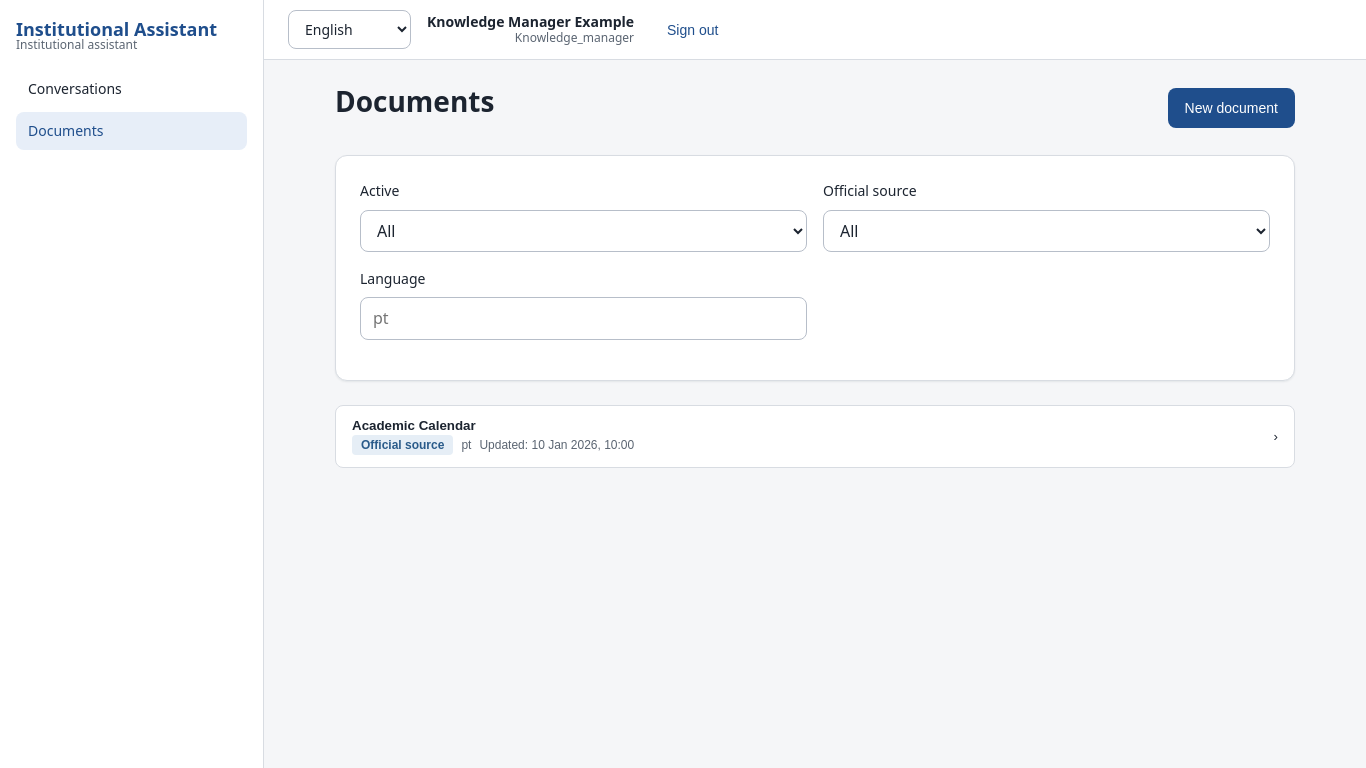
Test: documents admin area › creates a document with Save and opens its detail
Click the button "New document": (1231, 108) x1=1168 y1=88 x2=1295 y2=128
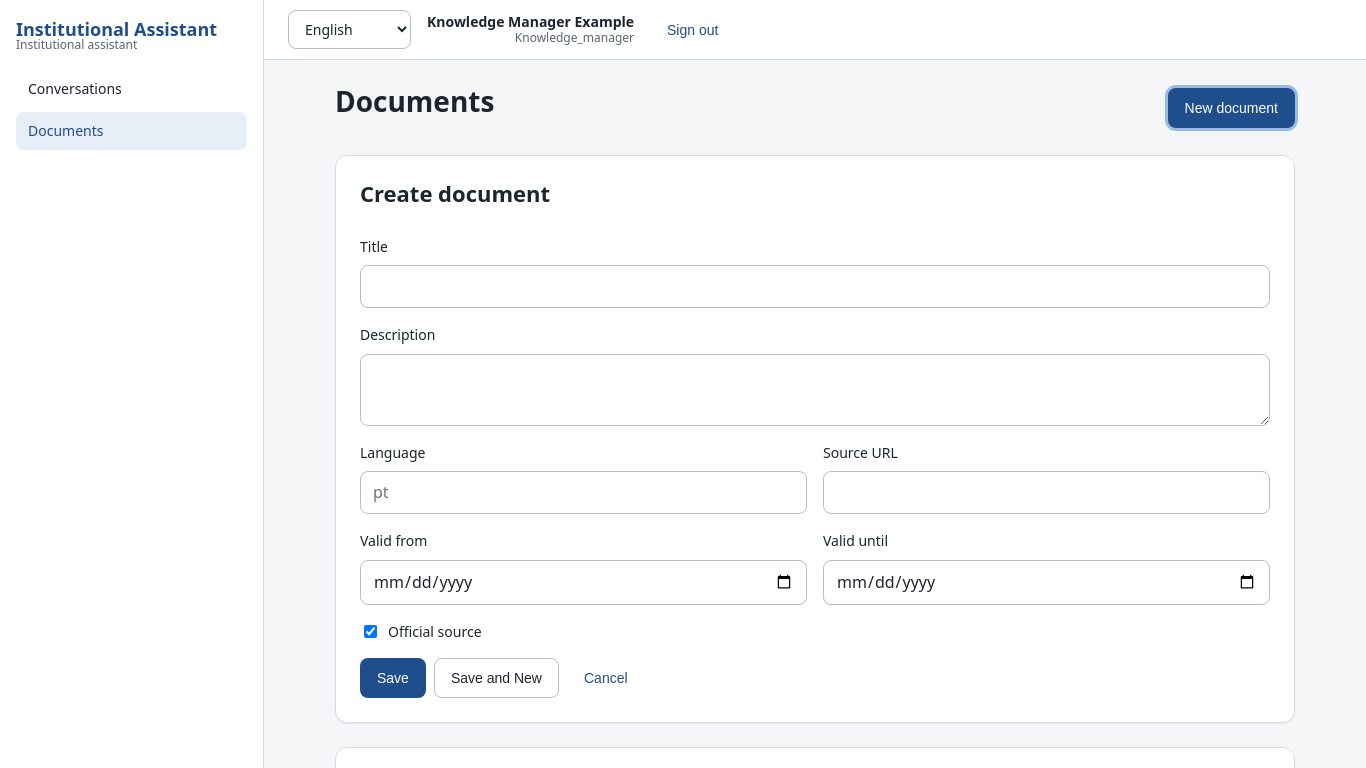
Check: the checkbox labelled "Official source" is checked, box x1=364 y1=625 x2=377 y2=638
In the field labelled "Title": (815, 287) x1=360 y1=265 x2=1270 y2=308, type "New Regulation"
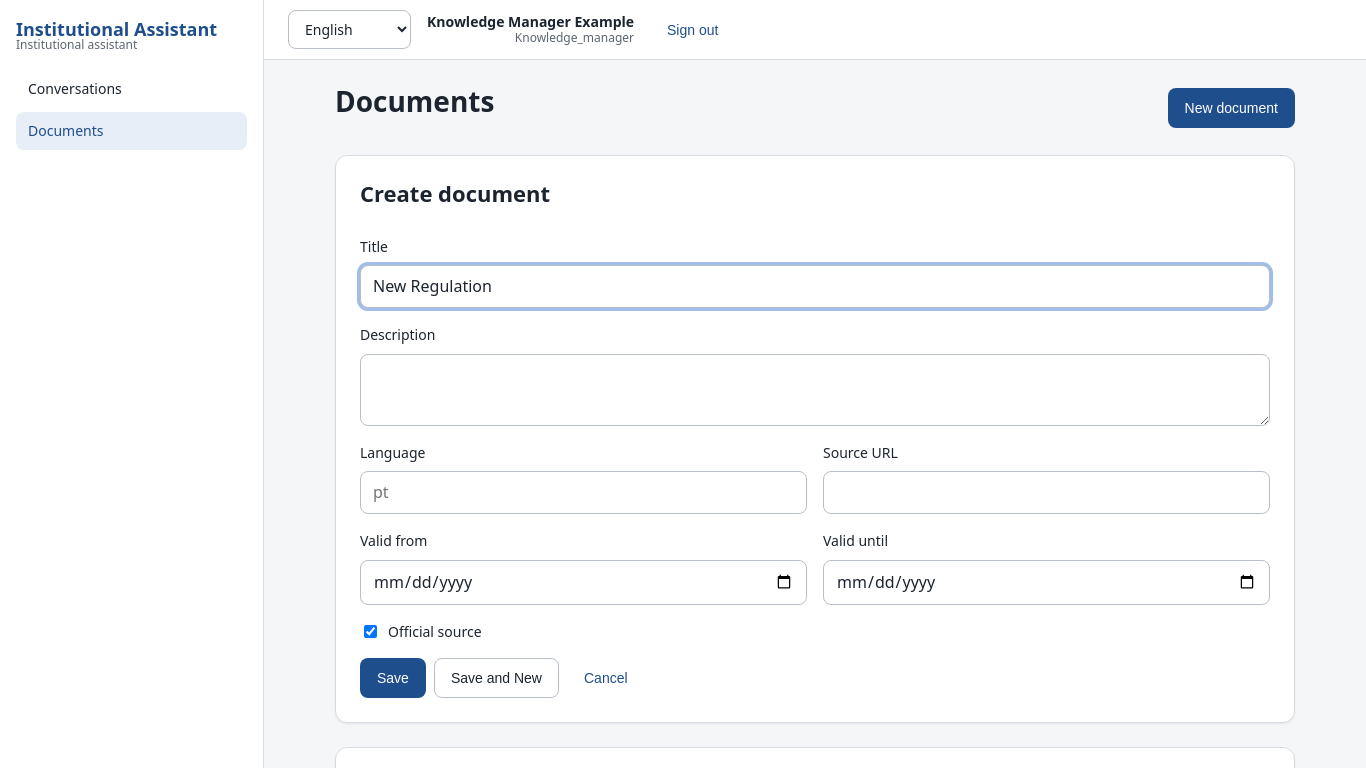
Click the button "Save": (393, 678) x1=360 y1=658 x2=426 y2=698
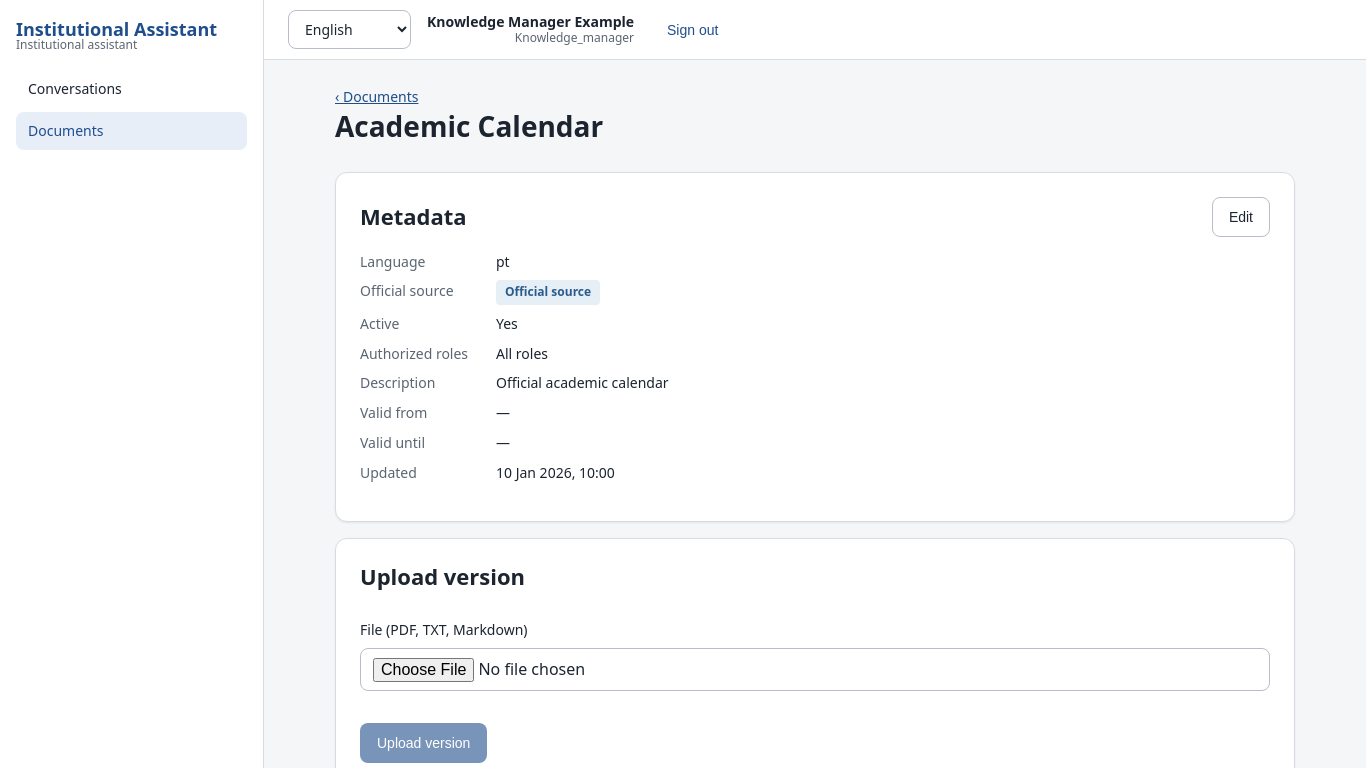
Check: the heading "Upload version" is shown, box x1=360 y1=561 x2=525 y2=591
